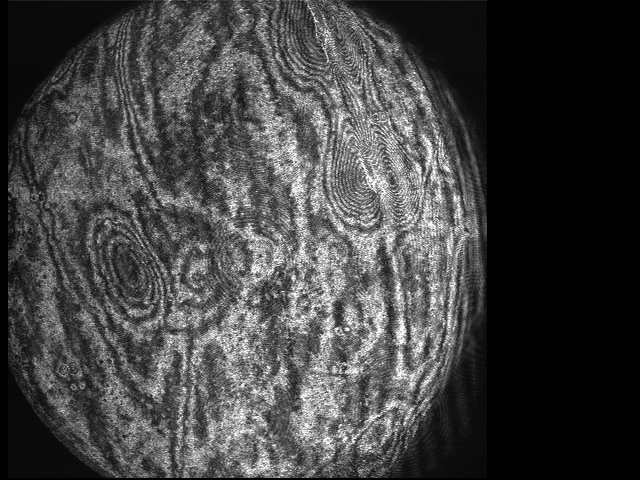plume: (328, 124, 417, 227)
